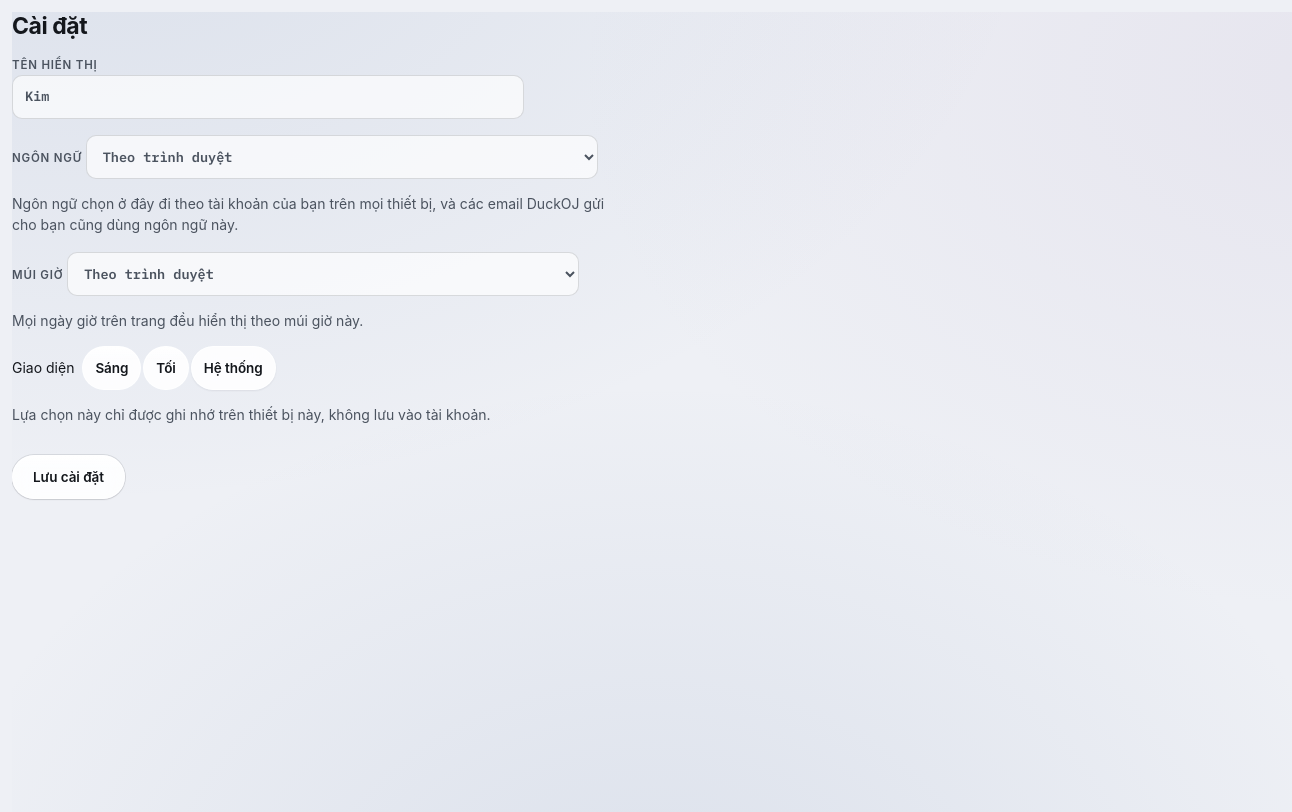
SettingsPage › surfaces the server refusal verbatim and never wedges the button
Click the button "Lưu cài đặt" at (68, 477), box [12,455,125,499]
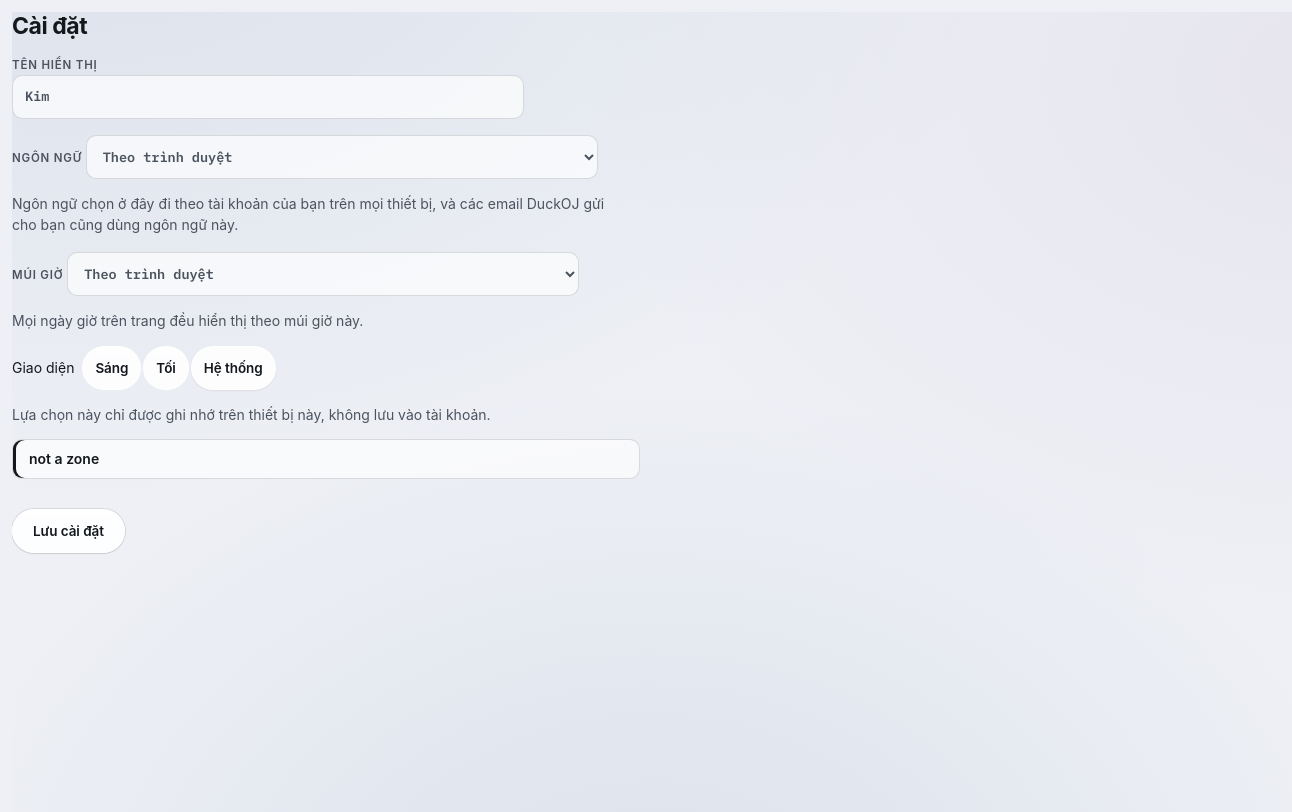
Expected: the button "Lưu cài đặt" is enabled, [12,509,125,553]
Now the message reads "not a zone", box [29,450,99,467]
